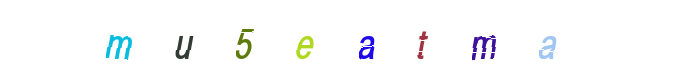5: (256, 0, 336, 80)
A: (327, 0, 407, 80), (443, 0, 523, 80)
E: (310, 0, 390, 80)
M: (79, 0, 159, 80), (373, 0, 453, 80)
T: (346, 0, 426, 80)
U: (176, 0, 256, 80)
